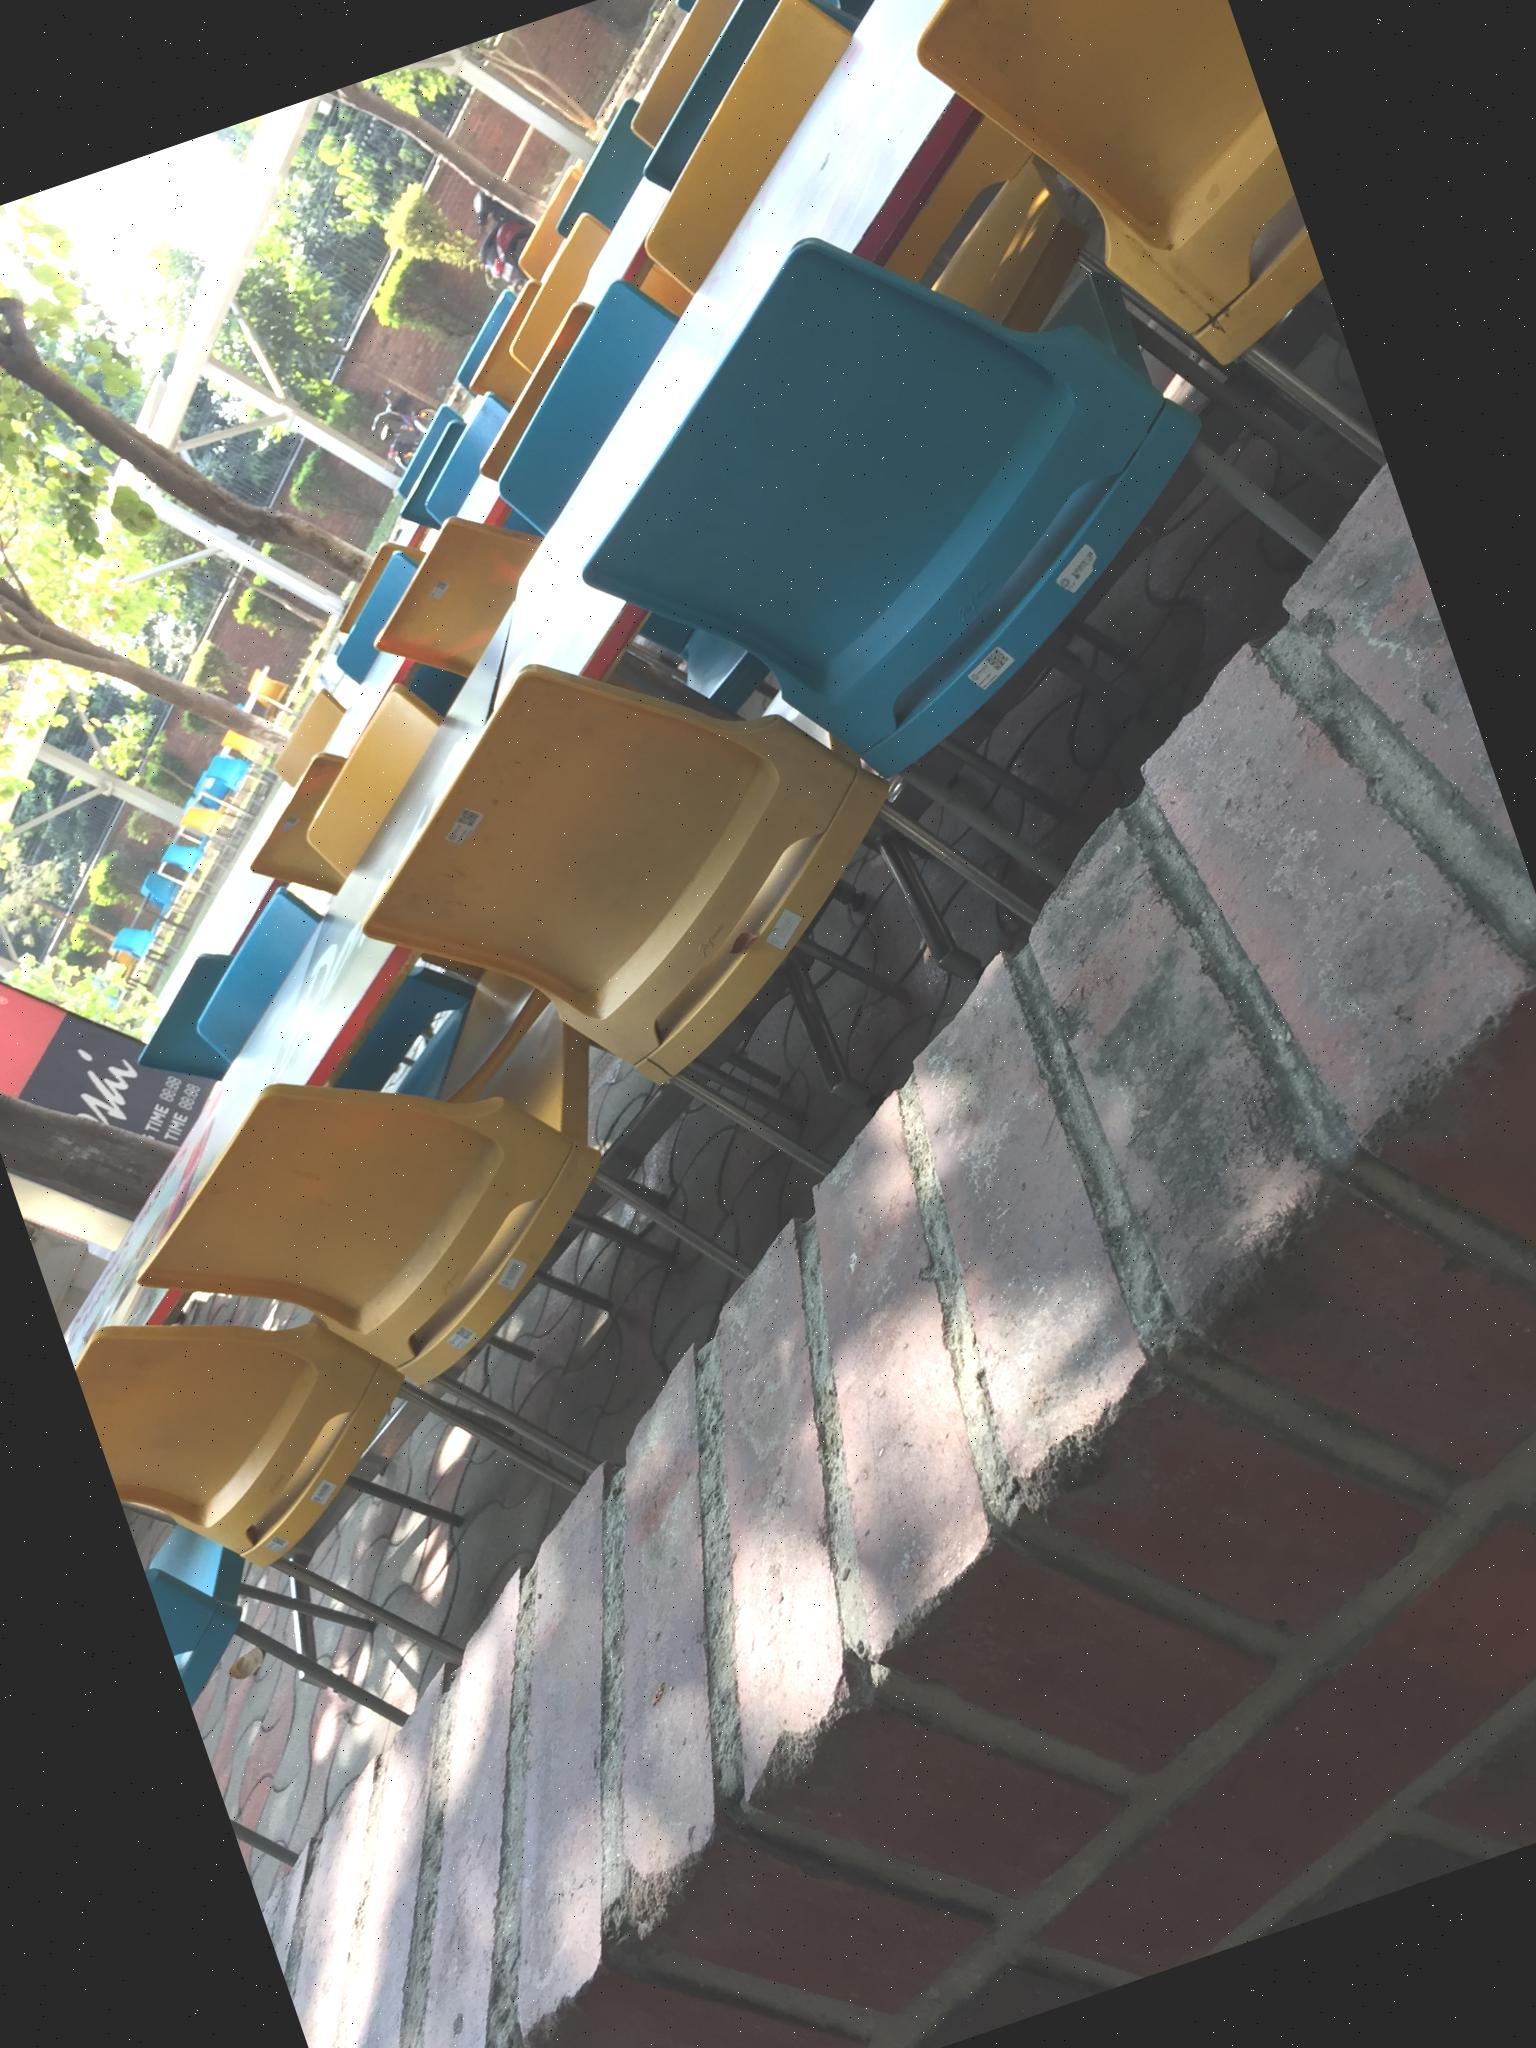chair: (495, 108, 1414, 1040), (292, 556, 1043, 1352), (127, 938, 740, 1568), (865, 0, 1390, 574), (67, 1228, 532, 1700), (597, 0, 990, 296), (430, 250, 706, 558), (576, 0, 854, 242), (246, 659, 494, 912), (353, 472, 544, 747), (158, 890, 340, 1068), (488, 211, 646, 372), (307, 524, 452, 662), (134, 942, 256, 1084), (237, 754, 352, 890)
